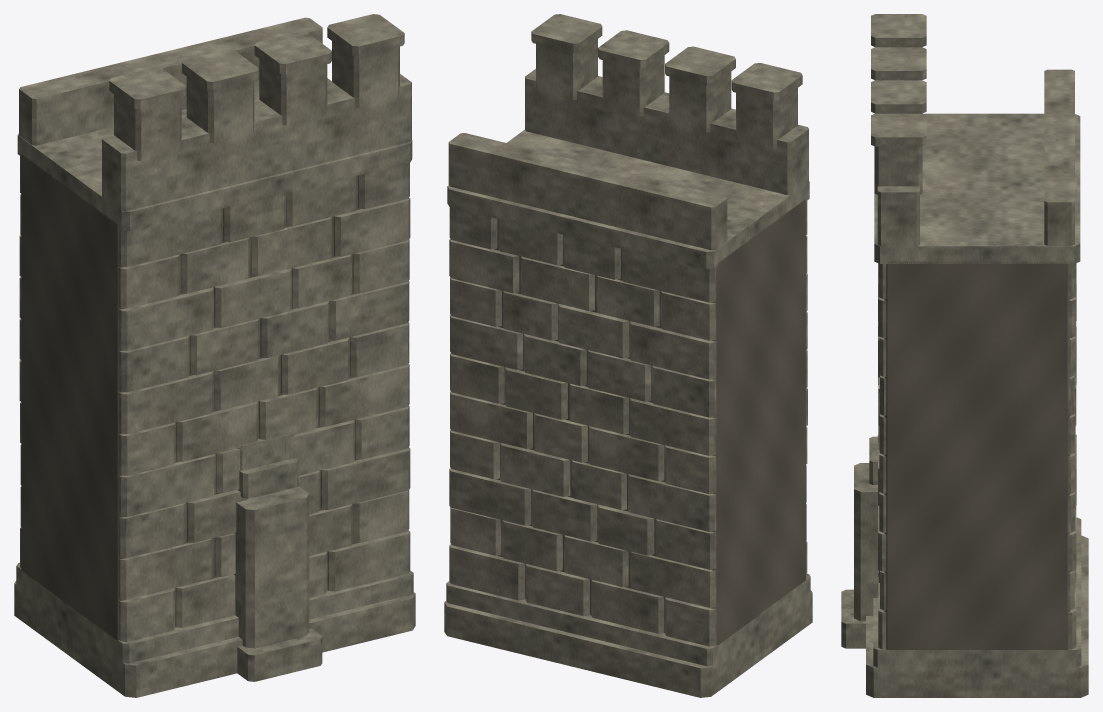
The model's file is stone_wall_half.glb.
The picture shows the model from 3 angles, left to right: view 1: azimuth 30°, elevation 25°; view 2: azimuth 150°, elevation 25°; view 3: azimuth 270°, elevation 25°; orthographic projection. The views are drawn at different scales.
Parts seen in each view (by area): view 1: Stone Wall Half; view 2: Stone Wall Half; view 3: Stone Wall Half.
Boxes of the visible parts, x1,y1,x2,y2 form: Stone Wall Half: [14, 14, 415, 697]; Stone Wall Half: [444, 14, 812, 697]; Stone Wall Half: [841, 14, 1088, 697].
Size of the model in its own units: 3.2 by 6.25 by 2.52.
Materials: 2 (2 with a texture image).
